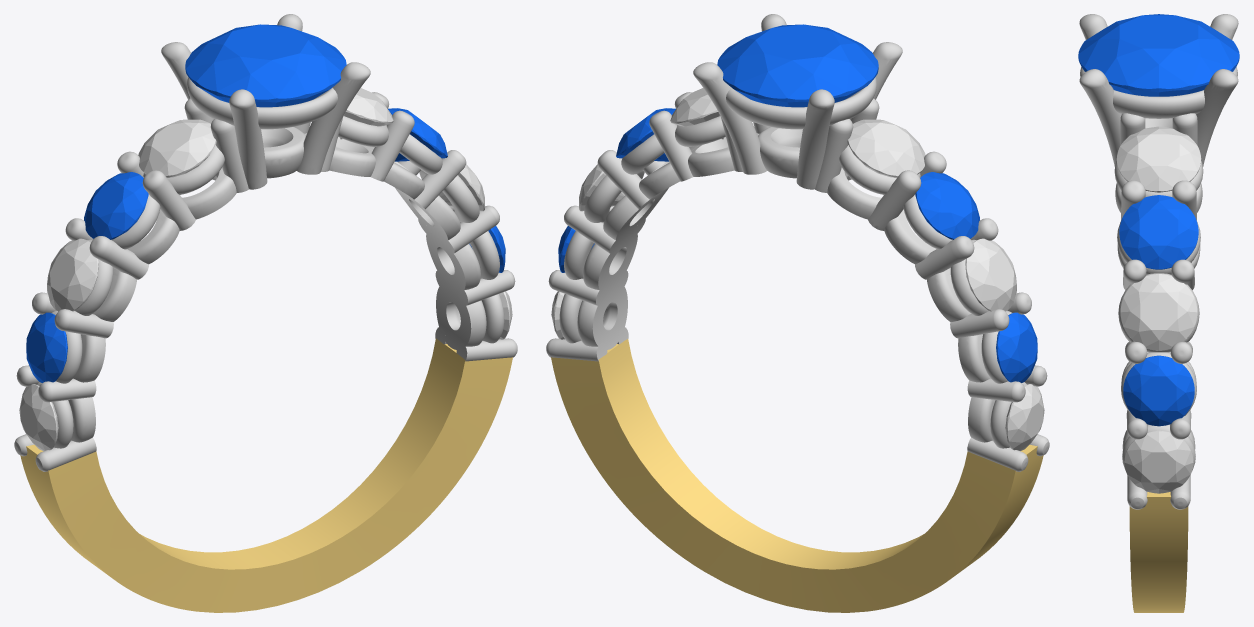
Rendered from Sarah_O_hal_alternating_11_stone_blender.glb.
3 views of the same model, side by side, from view 1: azimuth 30°, elevation 25°; view 2: azimuth 150°, elevation 25°; view 3: azimuth 270°, elevation 25° (orthographic).
Parts seen in each view (by area): view 1: alternating PT for 3d model, alternating YG for 3d model, alternating sapph for 3d model.004, alternating dia for 3d model.003, alternating sapph for 3d model.002, alternating dia for 3d model.004, alternating sapph for 3d model.003, alternating dia for 3d model.005, alternating dia for 3d model, alternating sapph for 3d model; view 2: alternating PT for 3d model, alternating YG for 3d model, alternating sapph for 3d model.004, alternating dia for 3d model.003, alternating sapph for 3d model.002, alternating dia for 3d model.004, alternating sapph for 3d model.003, alternating dia for 3d model.005, alternating dia for 3d model, alternating sapph for 3d model; view 3: alternating PT for 3d model, alternating sapph for 3d model.004, alternating YG for 3d model, alternating sapph for 3d model, alternating dia for 3d model.001, alternating dia for 3d model, alternating sapph for 3d model.001, alternating dia for 3d model.002.
Part boxes in pixels (left/top/right/bottom): alternating PT for 3d model: left=14, top=14, right=517, bottom=471; alternating YG for 3d model: left=20, top=338, right=512, bottom=612; alternating sapph for 3d model.004: left=185, top=24, right=346, bottom=107; alternating dia for 3d model.003: left=138, top=119, right=216, bottom=177; alternating sapph for 3d model.002: left=84, top=172, right=148, bottom=239; alternating dia for 3d model.004: left=47, top=238, right=98, bottom=311; alternating sapph for 3d model.003: left=26, top=312, right=67, bottom=382; alternating dia for 3d model.005: left=19, top=384, right=58, bottom=450; alternating dia for 3d model: left=340, top=88, right=393, bottom=139; alternating sapph for 3d model: left=388, top=108, right=447, bottom=161; alternating PT for 3d model: left=546, top=14, right=1049, bottom=471; alternating YG for 3d model: left=551, top=339, right=1043, bottom=612; alternating sapph for 3d model.004: left=717, top=24, right=878, bottom=107; alternating dia for 3d model.003: left=847, top=119, right=925, bottom=177; alternating sapph for 3d model.002: left=915, top=172, right=979, bottom=239; alternating dia for 3d model.004: left=965, top=238, right=1016, bottom=311; alternating sapph for 3d model.003: left=996, top=312, right=1037, bottom=382; alternating dia for 3d model.005: left=1005, top=384, right=1044, bottom=450; alternating dia for 3d model: left=670, top=88, right=723, bottom=139; alternating sapph for 3d model: left=616, top=108, right=675, bottom=161; alternating PT for 3d model: left=1079, top=14, right=1238, bottom=509; alternating sapph for 3d model.004: left=1078, top=14, right=1239, bottom=96; alternating YG for 3d model: left=1129, top=492, right=1188, bottom=612; alternating sapph for 3d model: left=1119, top=195, right=1198, bottom=269; alternating dia for 3d model.001: left=1120, top=274, right=1197, bottom=350; alternating dia for 3d model: left=1116, top=126, right=1201, bottom=192; alternating sapph for 3d model.001: left=1123, top=355, right=1194, bottom=426; alternating dia for 3d model.002: left=1124, top=430, right=1193, bottom=493.
Size of the model in its own units: 21.55 by 23.93 by 6.3.
